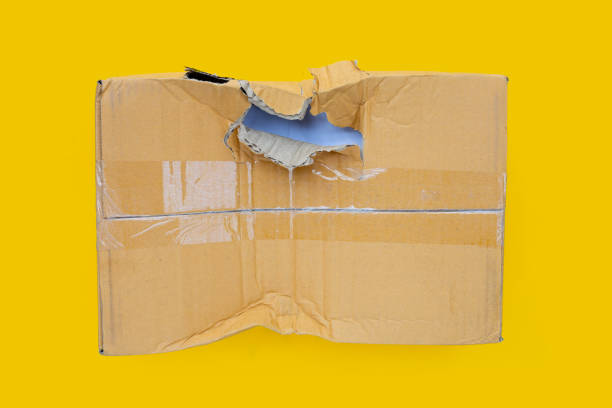damaged package: (168, 42, 394, 180), (166, 292, 335, 356)
